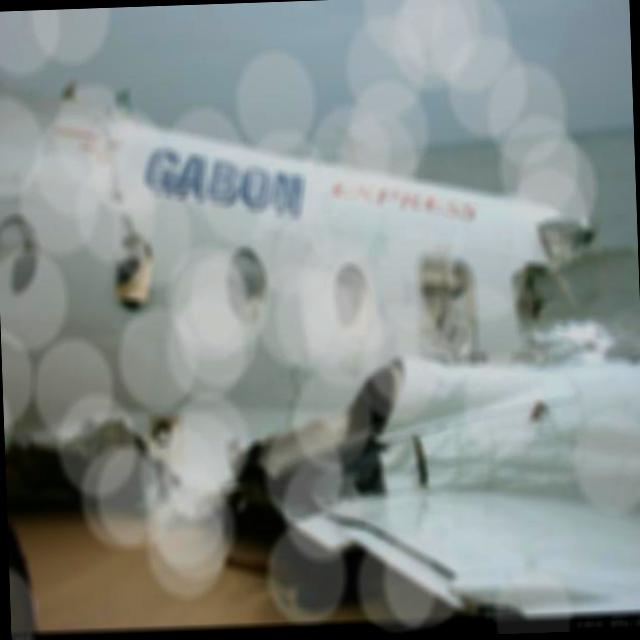crack: (102, 128, 138, 252), (409, 431, 431, 486)
